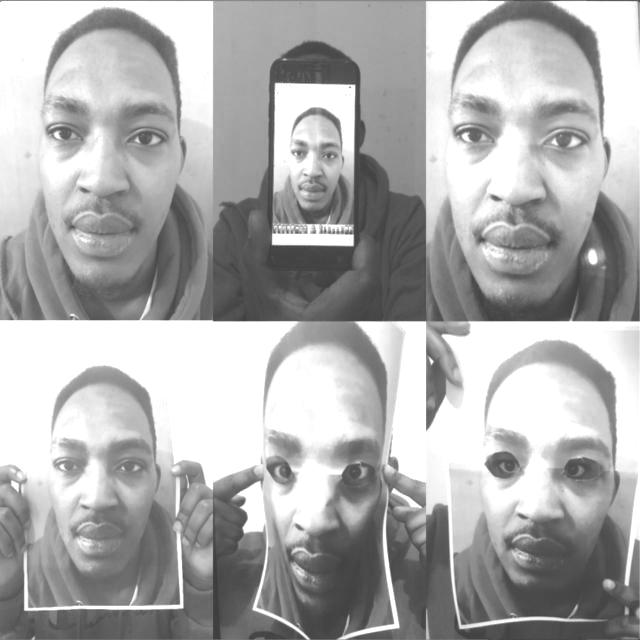real: (38, 11, 186, 283)
